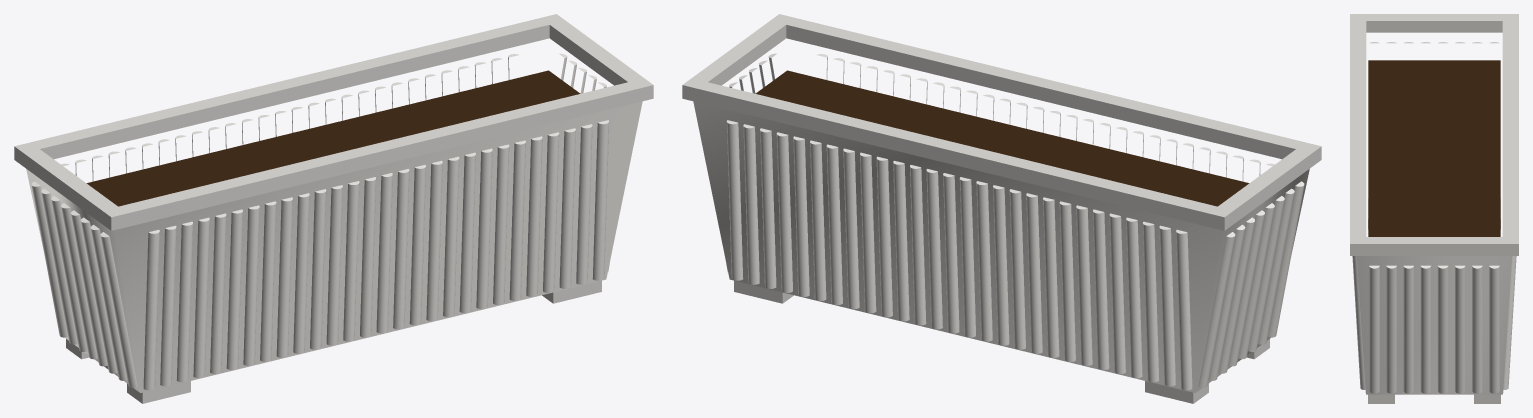
3 renders of one model, left to right at view 1: azimuth 30°, elevation 25°; view 2: azimuth 150°, elevation 25°; view 3: azimuth 270°, elevation 25°, orthographic. The views are drawn at different scales.
Visible parts, largest first — view 1: shell, soil, rim-top-f, rim-top-b, rim-f, rim-b, flute-0-15, flute-0-18, flute-0-0, flute-0-1, flute-0-3, flute-0-11 (+36 smaller); view 2: shell, soil, rim-top-b, rim-top-f, rim-b, rim-f, flute-1-9, flute-1-12, flute-1-2, flute-1-7, flute-1-10, flute-1-15 (+36 smaller); view 3: soil, shell, rim-top-f, rim-top-b, rim-top-l, rim-top-r, flute-2-3, flute-2-4, flute-2-1, flute-2-2, flute-2-5, flute-2-6 (+8 smaller).
Part boxes in pixels (x1,y1,x2,y2): shell: (26, 101, 642, 392); soil: (86, 70, 580, 206); rim-top-f: (102, 78, 653, 223); rim-top-b: (14, 14, 565, 158); rim-f: (102, 91, 653, 230); rim-b: (14, 31, 549, 166); flute-0-15: (393, 169, 409, 329); flute-0-18: (443, 156, 459, 317); flute-0-0: (143, 229, 159, 390); flute-0-1: (160, 225, 176, 386); flute-0-3: (193, 217, 209, 378); flute-0-11: (326, 185, 342, 345); shell: (693, 101, 1309, 392); soil: (755, 70, 1249, 206); rim-top-b: (682, 78, 1233, 223); rim-top-f: (770, 14, 1321, 158); rim-b: (682, 91, 1233, 230); rim-f: (786, 31, 1321, 166); flute-1-9: (876, 156, 892, 317); flute-1-12: (926, 169, 942, 329); flute-1-2: (760, 128, 776, 288); flute-1-7: (843, 148, 859, 309); flute-1-10: (893, 160, 909, 321); flute-1-15: (976, 181, 992, 341); soil: (1368, 60, 1500, 236); shell: (1356, 256, 1512, 394); rim-top-f: (1350, 14, 1366, 249); rim-top-b: (1502, 14, 1518, 249); rim-top-l: (1366, 14, 1502, 26); rim-top-r: (1366, 237, 1502, 249); flute-2-3: (1420, 265, 1431, 393); flute-2-4: (1437, 265, 1448, 393); flute-2-1: (1386, 265, 1396, 393); flute-2-2: (1403, 265, 1413, 393); flute-2-5: (1455, 265, 1465, 393); flute-2-6: (1472, 265, 1482, 393).
Size of the model in its own units: 1 by 0.36 by 0.31.
